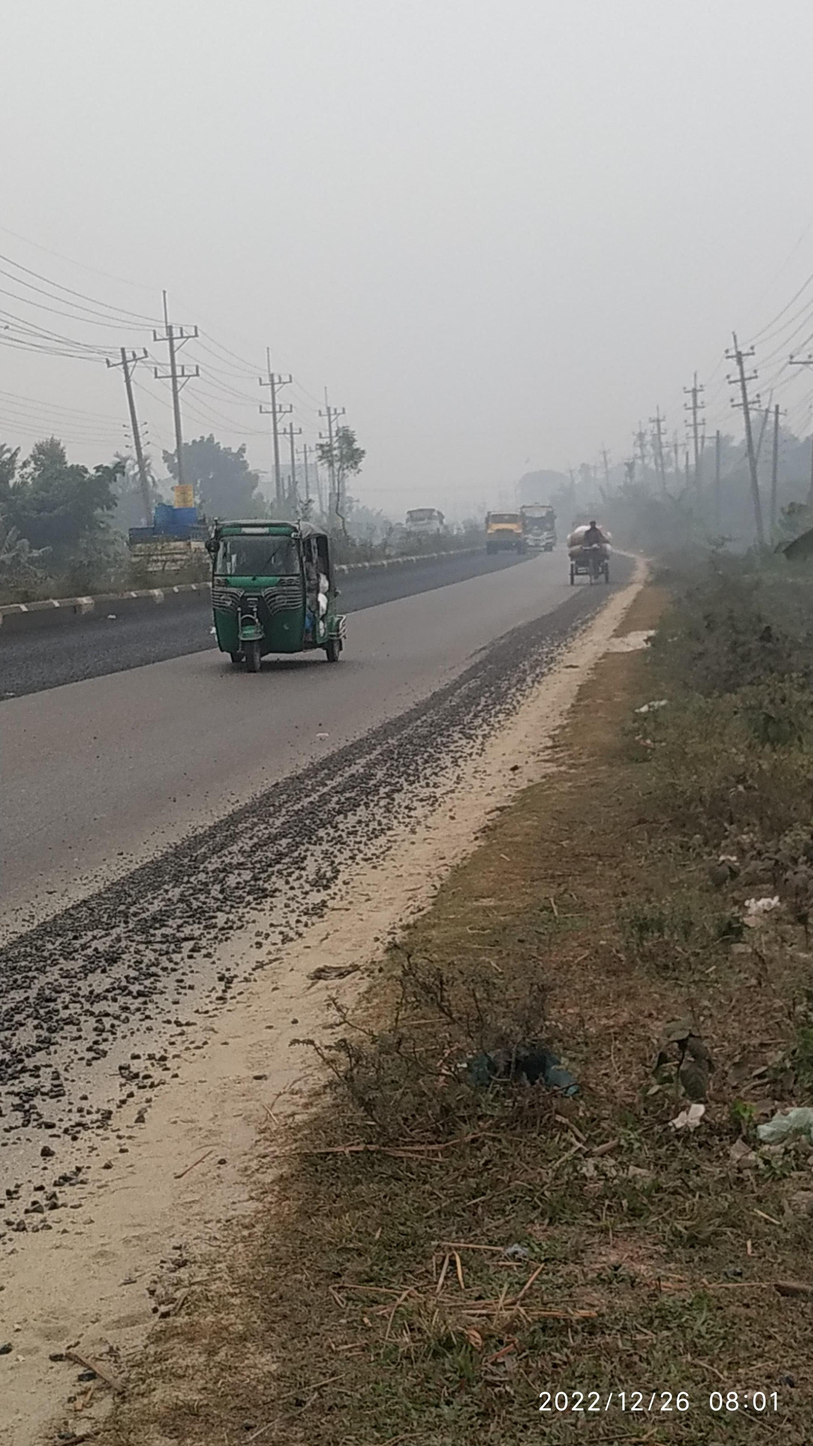Bus: (388, 492, 457, 556), (513, 499, 564, 562)
Truck: (477, 500, 525, 566)
